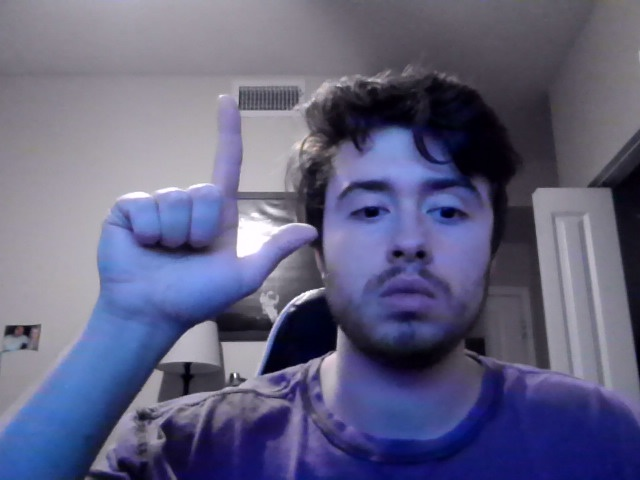l: (96, 93, 319, 341)
